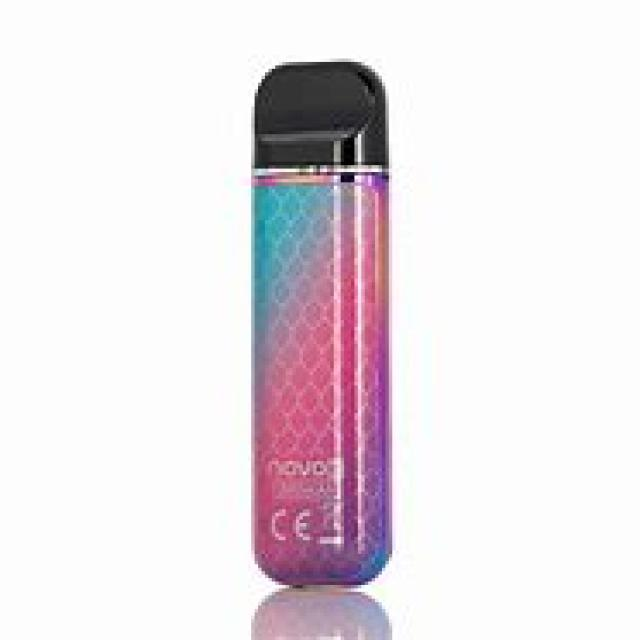Vapes: (248, 55, 392, 585)
